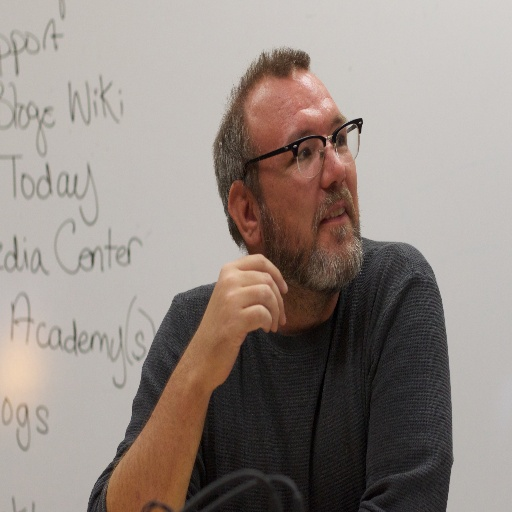hand: (199, 252, 285, 380)
